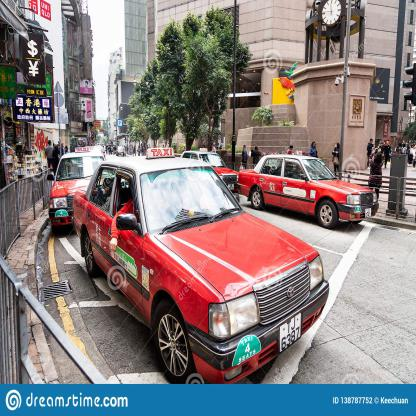taxi: (70, 139, 334, 383)
